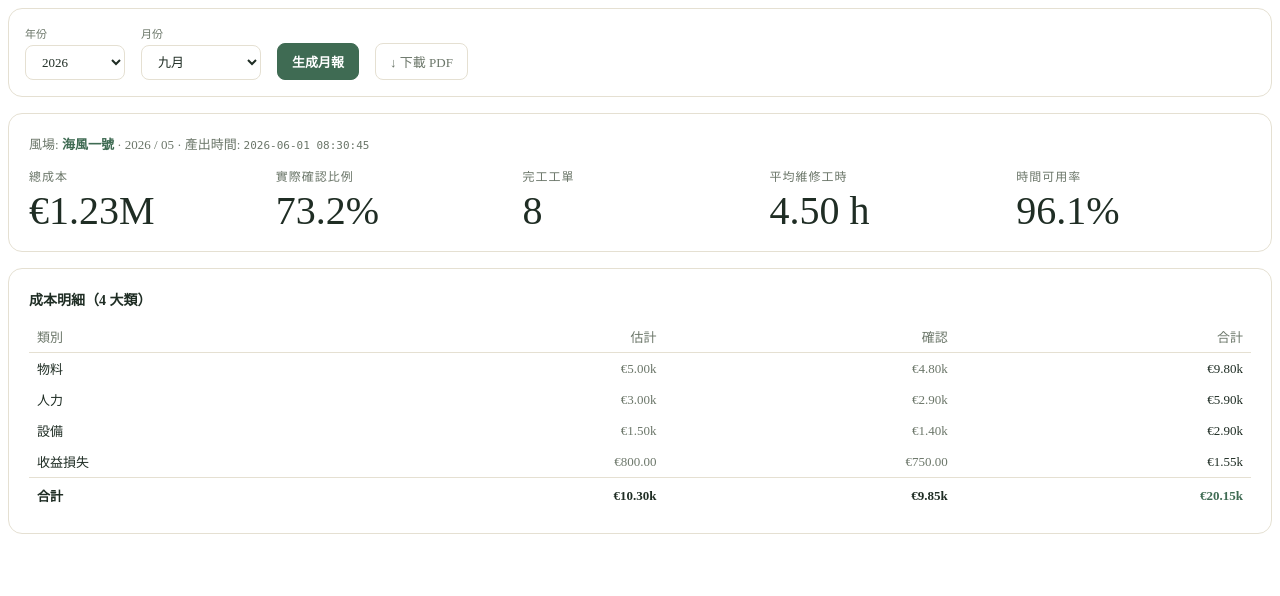
MonthlyReportPanel — PDF 下載 › 下載失敗 → 顯示下載失敗錯誤卡（Error.message）
Click the button "↓ 下載 PDF".
click(421, 62)  # box 375,43 -> 468,80
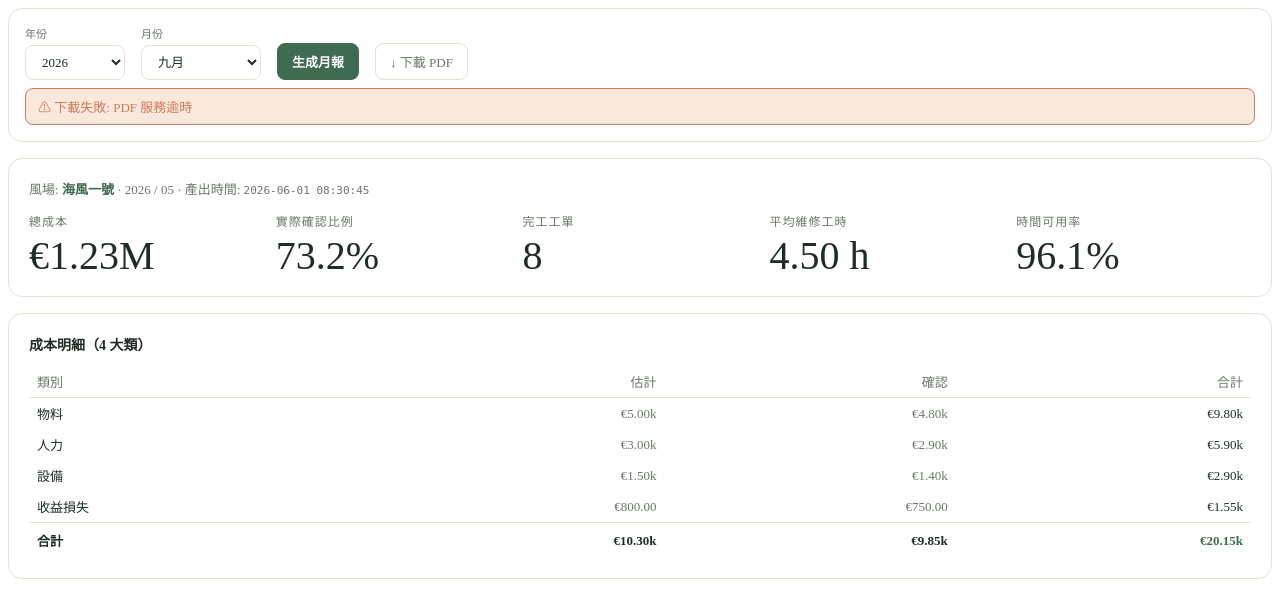
Check: the text "⚠ 下載失敗: PDF 服務逾時" is shown, box 25,88 -> 1255,125
